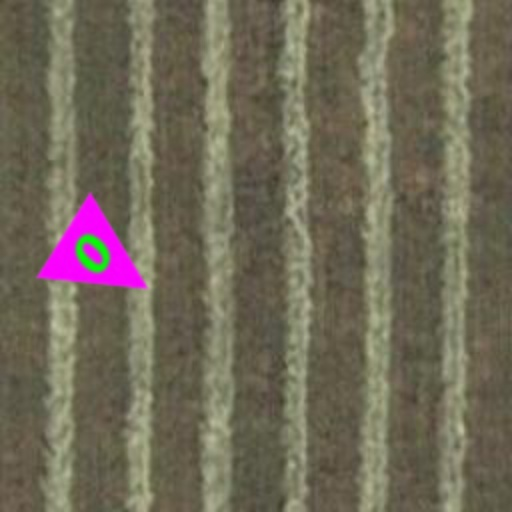triangle: (36, 192, 176, 332)
